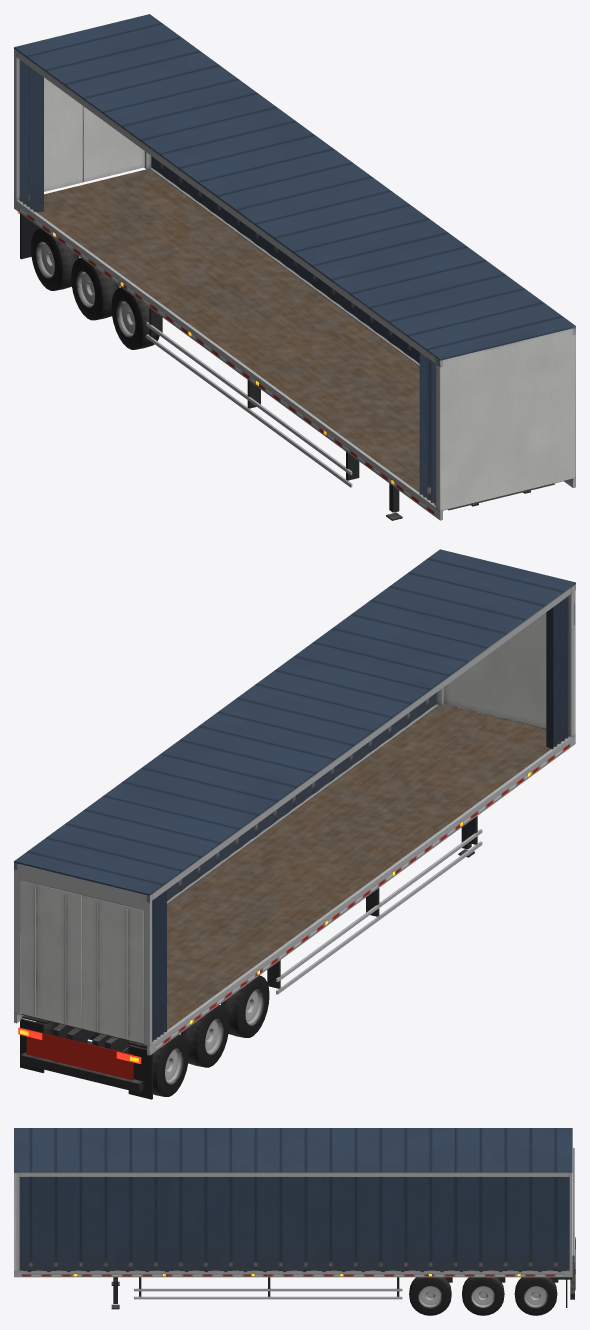
File: SemiTrailer.fbx
The picture shows the model from 3 angles, top to bottom: view 1: azimuth 30°, elevation 25°; view 2: azimuth 150°, elevation 25°; view 3: azimuth 270°, elevation 25°; orthographic projection. The views are drawn at different scales.
Visible parts, largest first — view 1: SemiTrailer_LOD0, Axle_3_LOD0, Axle_2_LOD0, Axle_1_LOD0; view 2: SemiTrailer_LOD0, Axle_2_LOD0, Axle_1_LOD0, Axle_3_LOD0; view 3: SemiTrailer_LOD0, Axle_2_LOD0, Axle_3_LOD0, Axle_1_LOD0.
Part boxes in pixels (box(x1,y1,x2,y2)): SemiTrailer_LOD0: box(14, 14, 575, 520); Axle_3_LOD0: box(31, 228, 79, 290); Axle_2_LOD0: box(71, 257, 119, 320); Axle_1_LOD0: box(111, 287, 159, 349); SemiTrailer_LOD0: box(14, 549, 575, 1099); Axle_2_LOD0: box(88, 1005, 229, 1067); Axle_1_LOD0: box(221, 975, 269, 1037); Axle_3_LOD0: box(36, 1021, 188, 1096); SemiTrailer_LOD0: box(14, 1128, 575, 1309); Axle_2_LOD0: box(462, 1277, 504, 1315); Axle_3_LOD0: box(514, 1277, 557, 1315); Axle_1_LOD0: box(409, 1277, 451, 1315).
Size of what is drawn, in the model's own units: 2.57 by 4 by 13.94.
1 material, 1 textured.
